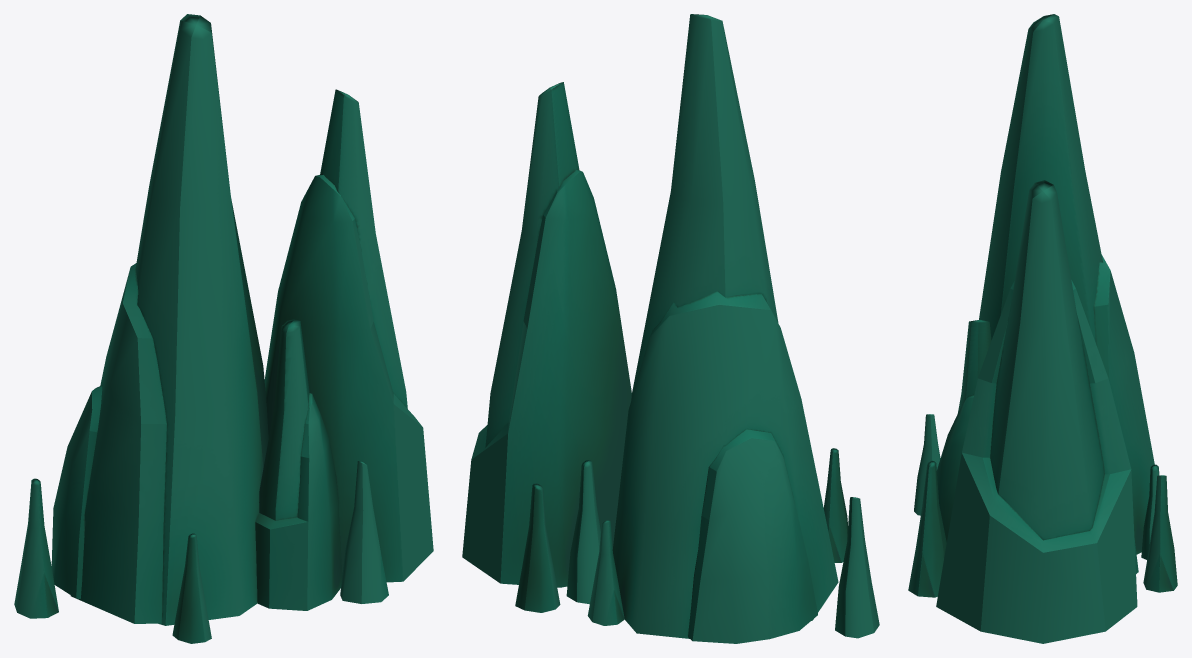
The model's file is stalagmiteBlunt.fbx.
3 views of the same model, side by side, from view 1: azimuth 30°, elevation 25°; view 2: azimuth 150°, elevation 25°; view 3: azimuth 270°, elevation 25° (orthographic). The views are drawn at different scales.
Parts seen in each view (by area): view 1: stalagmite_blunt_geo; view 2: stalagmite_blunt_geo; view 3: stalagmite_blunt_geo.
Part boxes in pixels (box(x1,y1,x2,y2)): stalagmite_blunt_geo: box(14, 14, 433, 643); stalagmite_blunt_geo: box(462, 14, 879, 643); stalagmite_blunt_geo: box(908, 14, 1177, 643).
Size of the model in its own units: 70.54 by 93.6 by 43.69.
1 material, 1 textured.
